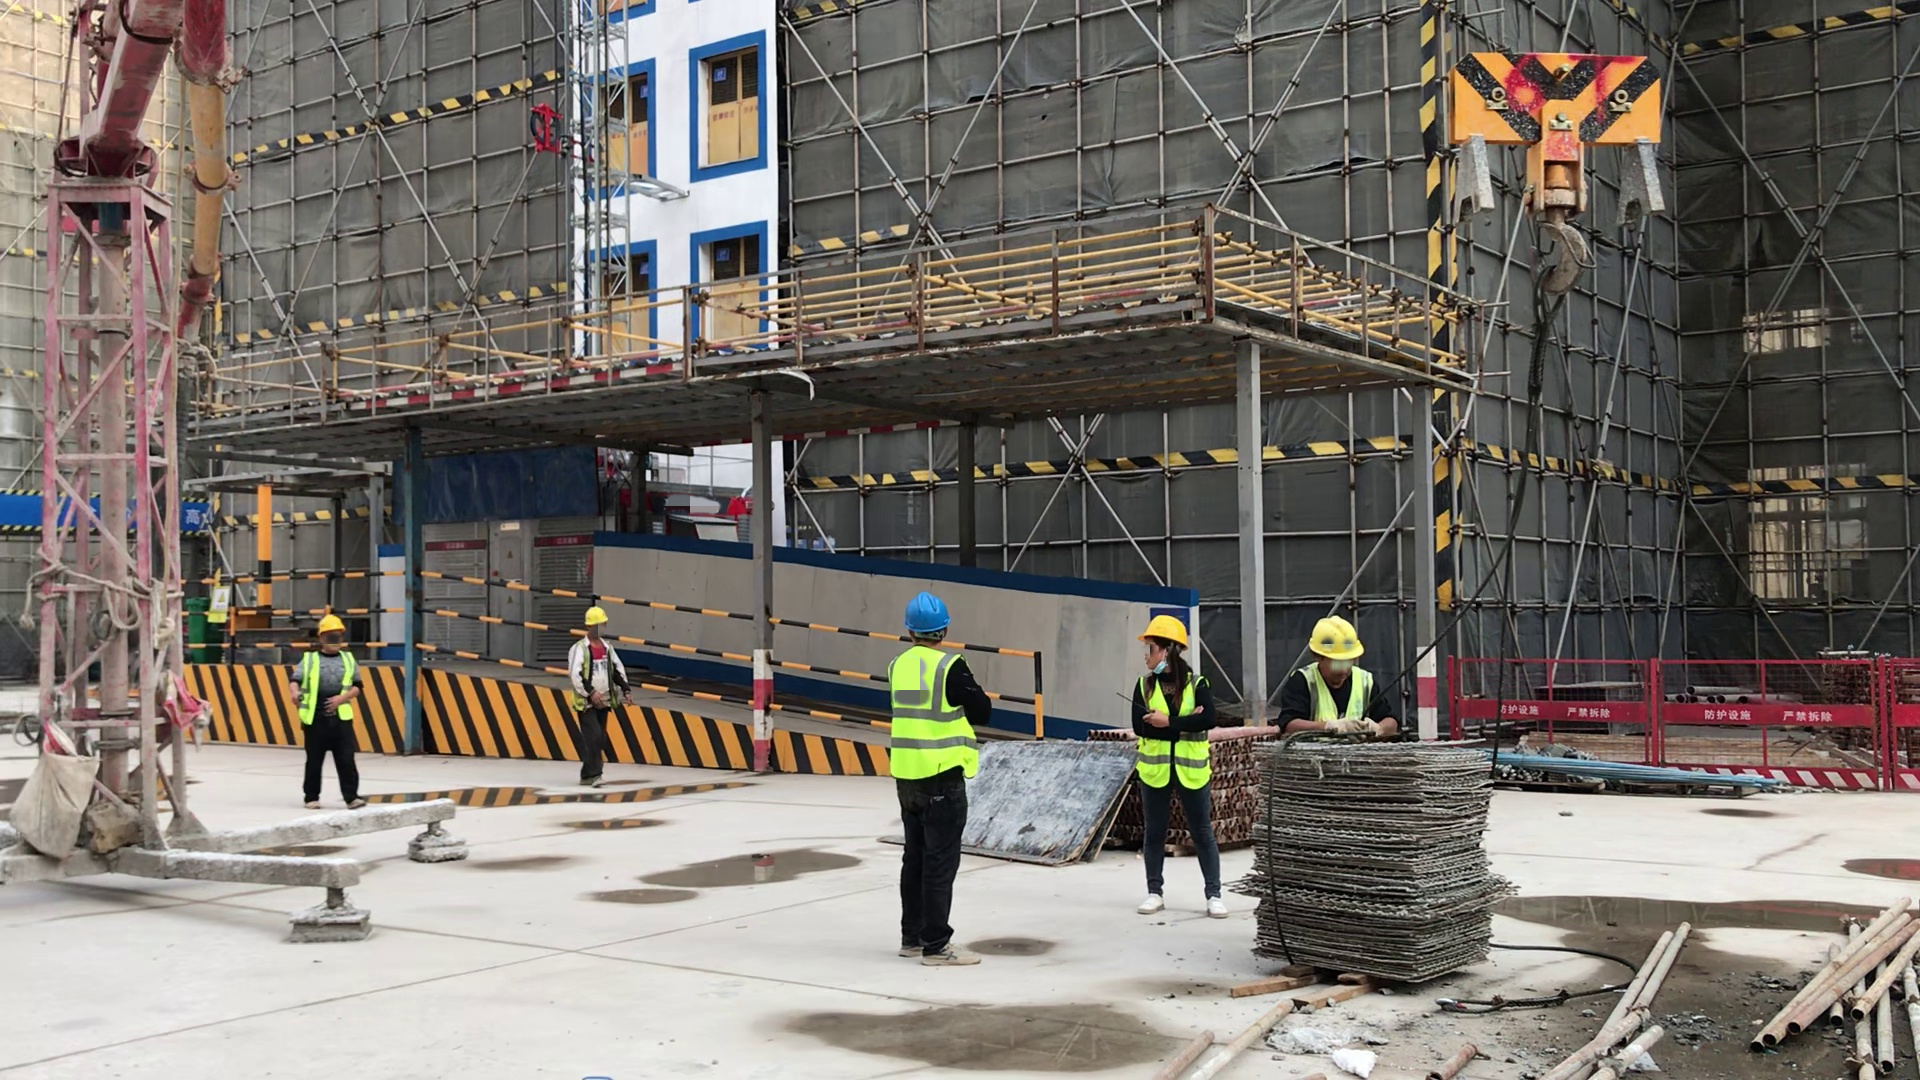fence: (1434, 645, 1913, 787)
helmet: (901, 592, 954, 633), (1137, 614, 1193, 647), (580, 605, 612, 625), (313, 614, 348, 632)
hook: (1430, 26, 1678, 305)
person: (848, 593, 1021, 972), (1118, 609, 1251, 920), (270, 615, 381, 812), (1267, 608, 1412, 749), (545, 600, 643, 797)
vest: (882, 649, 978, 779), (1134, 678, 1210, 789), (1300, 665, 1372, 723), (299, 650, 350, 720), (572, 642, 618, 712)
